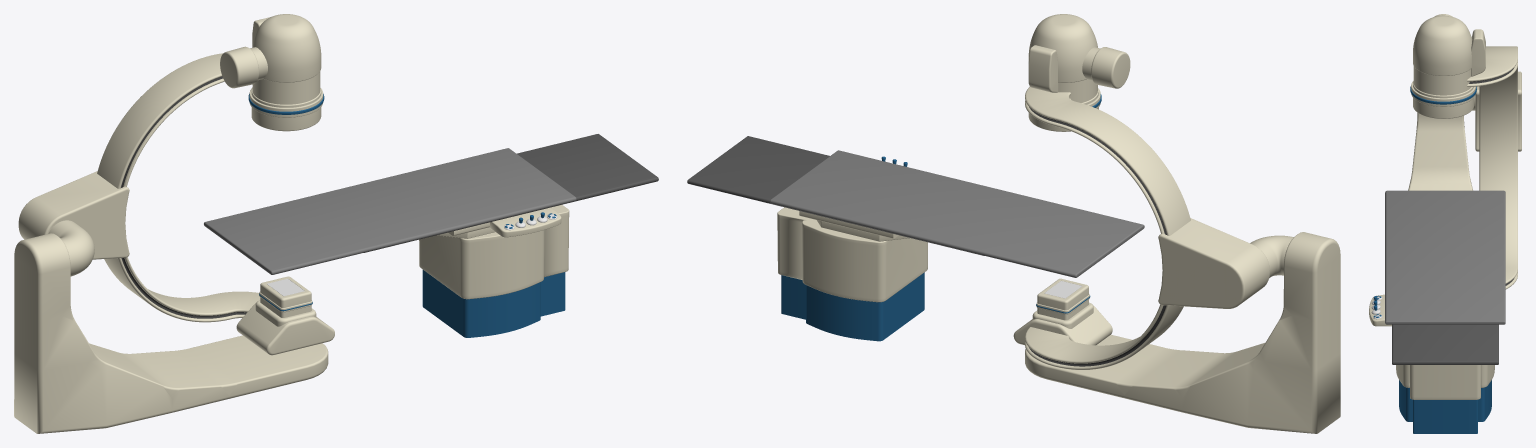
The model's file is Medic.FBX.
3 renders of one model, left to right at view 1: azimuth 30°, elevation 25°; view 2: azimuth 150°, elevation 25°; view 3: azimuth 270°, elevation 25°, orthographic. The views are drawn at different scales.
Visible parts, largest first — view 1: cadnav.com; view 2: cadnav.com; view 3: cadnav.com.
Boxes of the visible parts, box(x1,y1,x2,y2) form: cadnav.com: box(14, 14, 658, 433); cadnav.com: box(687, 14, 1340, 433); cadnav.com: box(1369, 14, 1521, 433).
Size of the model in its own units: 391 by 210 by 97.11.
